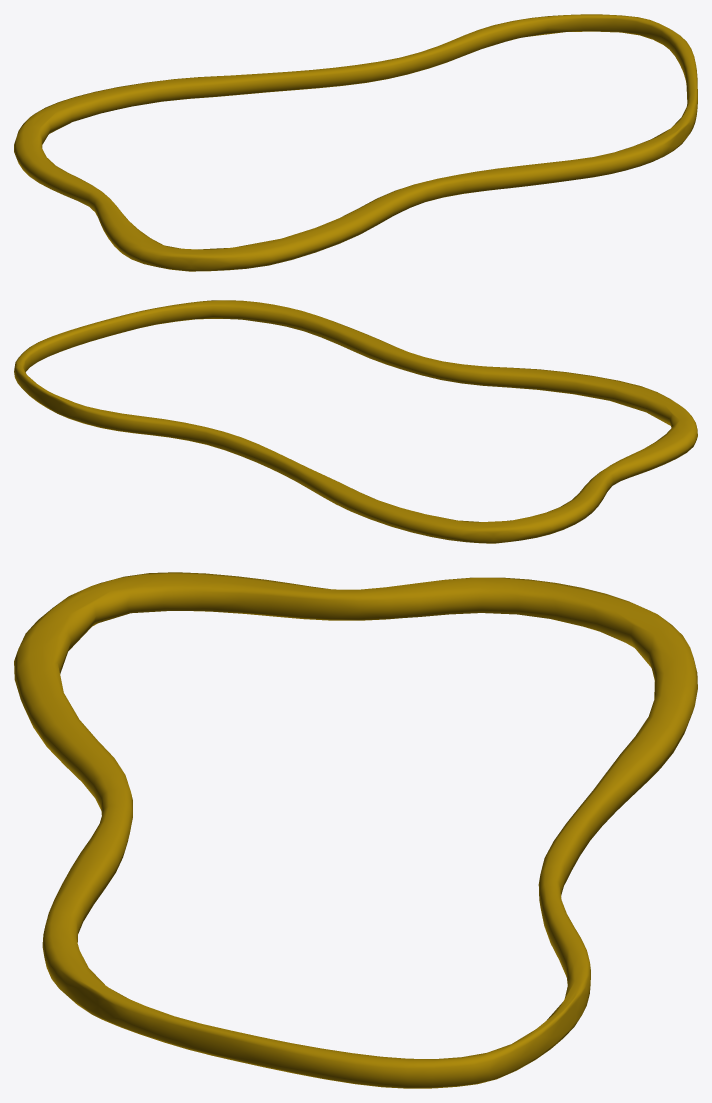
File: smoothboarder.fbx
3 views of the same model, one above another, from view 1: azimuth 30°, elevation 25°; view 2: azimuth 150°, elevation 25°; view 3: azimuth 270°, elevation 25° (orthographic). The views are drawn at different scales.
Parts seen in each view (by area): view 1: polySurface33; view 2: polySurface33; view 3: polySurface33.
Part boxes in pixels (x1=…): polySurface33: x1=14, y1=14, x2=697, y2=271; polySurface33: x1=14, y1=300, x2=697, y2=543; polySurface33: x1=14, y1=572, x2=697, y2=1088.
Bounding box in the file's own units: 20.31 × 0.5087 × 11.77.
